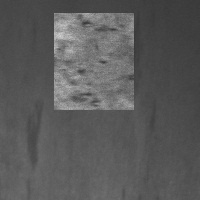inclusion: (104, 6, 146, 114), (19, 89, 48, 173), (143, 94, 164, 136), (24, 16, 40, 50)
rolled-in_scale: (54, 13, 134, 110)
